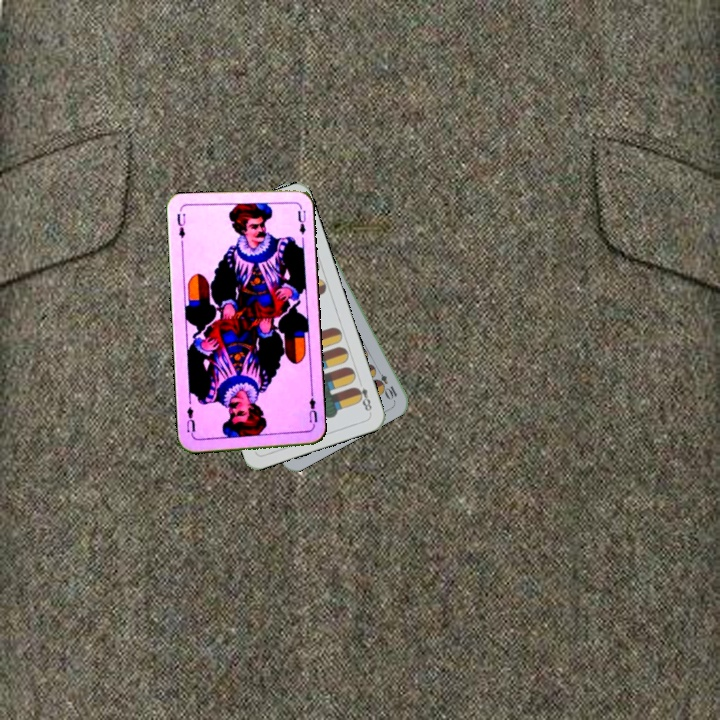E10: (371, 364, 400, 402)
E8: (351, 376, 374, 416)
EU: (305, 390, 320, 431), (173, 209, 188, 240)
